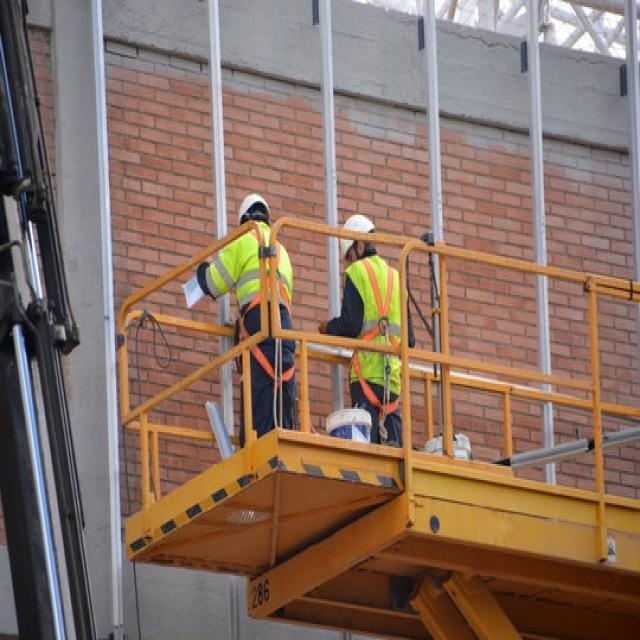Arnes_seguridad: (236, 223, 296, 381), (349, 257, 401, 410)
